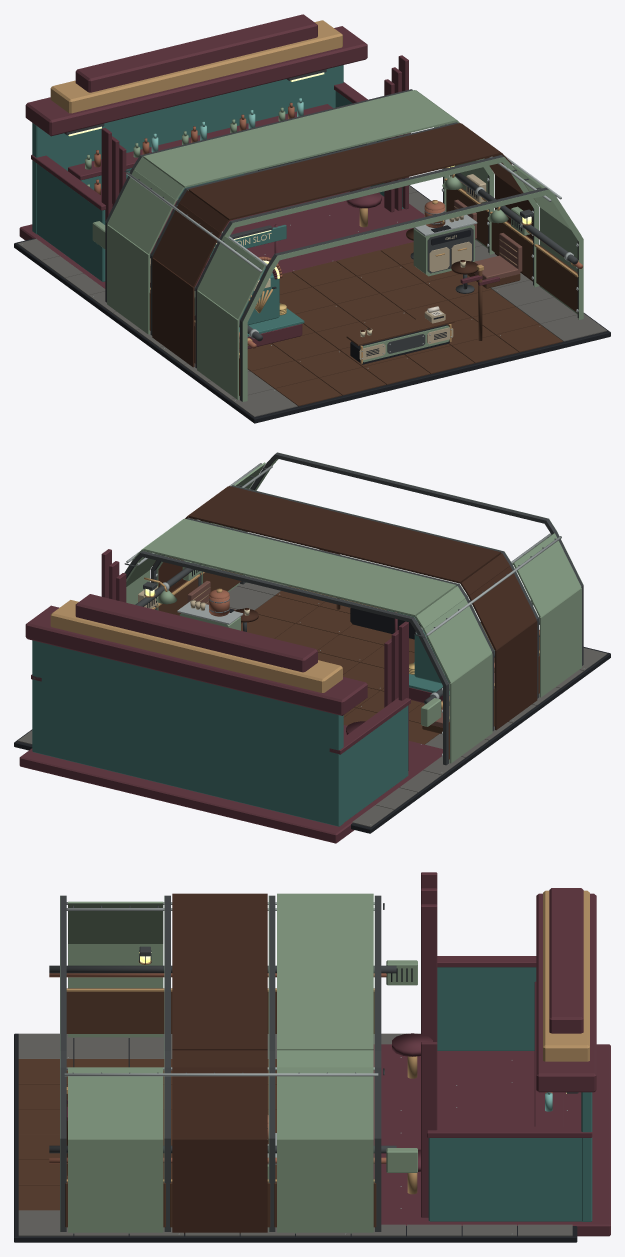
The model's file is verdanthia-bar.glb.
The picture shows the model from 3 angles, top to bottom: view 1: azimuth 30°, elevation 25°; view 2: azimuth 150°, elevation 25°; view 3: azimuth 270°, elevation 25°; orthographic projection. The views are drawn at different scales.
Parts seen in each view (by area): view 1: verdanthia-bar; view 2: verdanthia-bar; view 3: verdanthia-bar.
Part boxes in pixels (x1,y1,x2,y2): verdanthia-bar: [14, 14, 610, 423]; verdanthia-bar: [14, 452, 610, 843]; verdanthia-bar: [14, 872, 610, 1242].
Size of the model in its own units: 17.08 by 7.57 by 21.15.
Materials: 23 (20 with a texture image).
